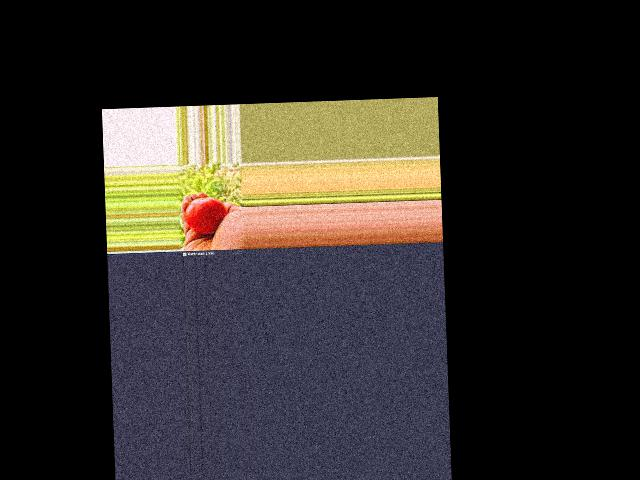tomato: (185, 197, 227, 235)
